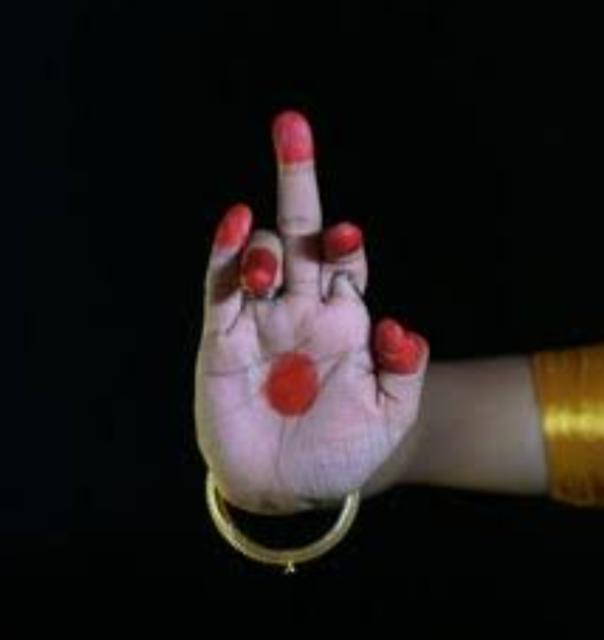shuktund: (191, 111, 431, 571)
